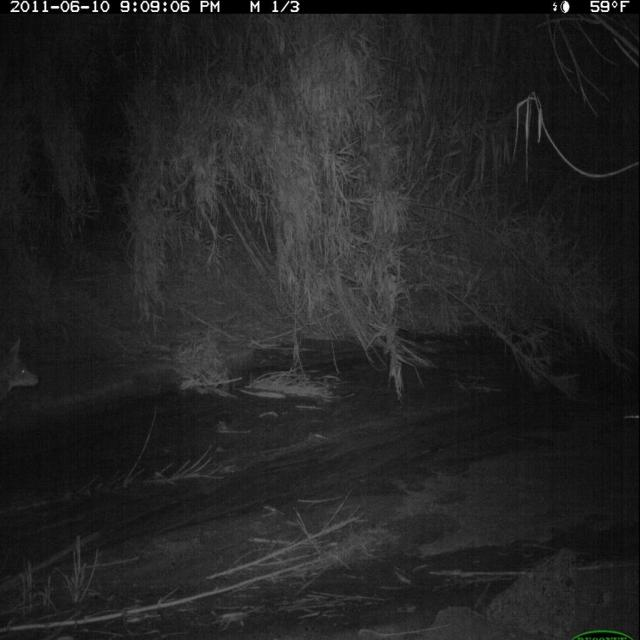coyote: (2, 328, 50, 422)
